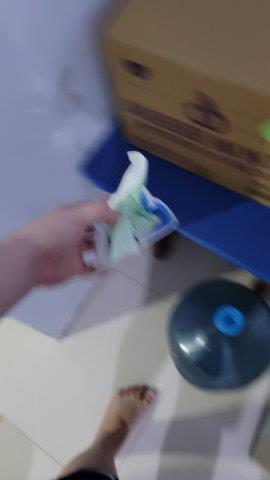kertas: (75, 151, 176, 273)
